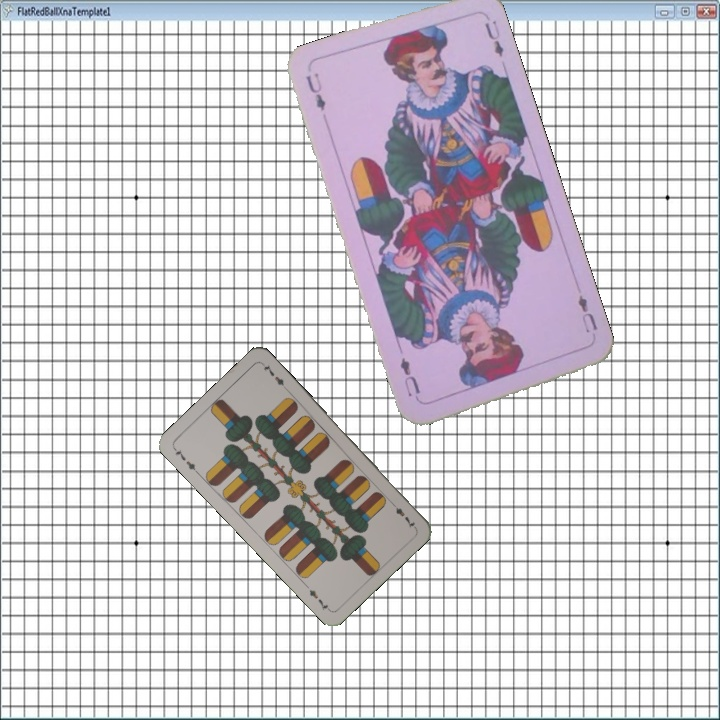E7: (386, 498, 418, 531), (170, 444, 201, 476)
EU: (574, 291, 600, 336), (302, 68, 328, 113)
